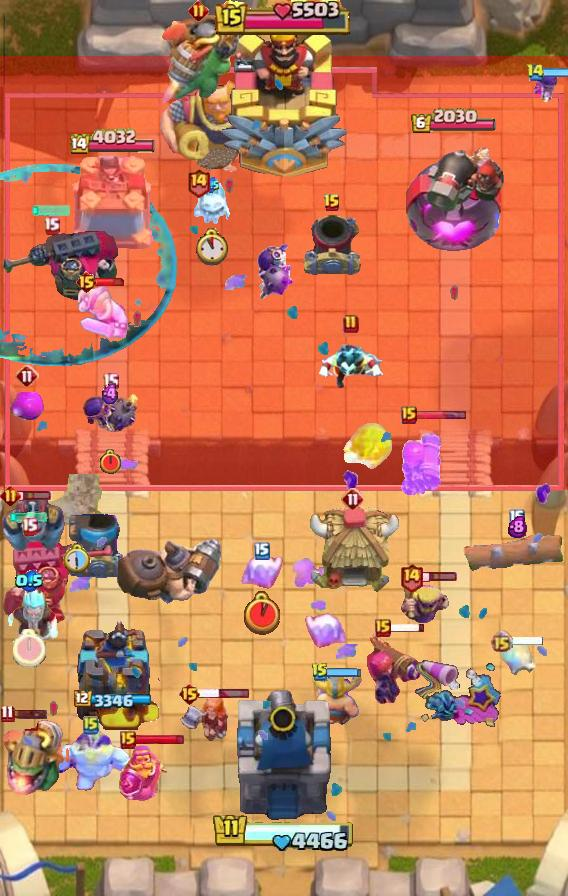bar: (134, 733, 185, 746), (198, 688, 250, 699), (415, 410, 467, 421), (11, 708, 48, 720), (421, 571, 458, 583), (15, 490, 52, 502), (389, 622, 426, 633), (327, 667, 362, 678), (511, 636, 544, 646), (95, 277, 127, 287), (542, 67, 568, 78)
bar-level: (399, 562, 424, 593), (186, 167, 211, 198), (341, 487, 365, 511), (15, 364, 39, 388), (178, 682, 201, 706), (75, 270, 98, 294), (490, 630, 513, 653), (0, 485, 21, 506), (188, 0, 209, 21), (526, 63, 545, 82), (311, 662, 329, 682), (323, 193, 341, 213), (21, 517, 38, 536), (102, 372, 119, 391), (43, 216, 60, 235), (83, 715, 99, 735), (343, 314, 359, 334), (120, 731, 136, 749), (375, 619, 391, 637), (254, 542, 270, 560), (509, 509, 525, 527), (401, 406, 417, 424), (0, 704, 15, 723)
barbarian-evolution: (398, 575, 450, 625)
bomber-evolution: (81, 392, 139, 436), (255, 244, 295, 302)
cannoneer-tower: (402, 136, 504, 256)
clock: (244, 591, 280, 635), (193, 228, 230, 266), (13, 629, 46, 667), (63, 543, 92, 574), (99, 449, 122, 475)
dirt: (46, 474, 108, 525)
electro-wizard: (314, 336, 388, 394)
elite-barbarian: (307, 674, 363, 728), (76, 283, 130, 339)
elixir: (15, 570, 44, 592), (100, 383, 121, 405), (508, 515, 527, 538), (203, 177, 219, 193)
elixir-golem-small: (9, 392, 45, 422)
firecracker-evolution: (366, 632, 424, 706), (397, 419, 445, 499)
ice-spirit: (190, 181, 232, 225), (494, 639, 538, 675)
ice-spirit-evolution: (303, 610, 349, 652), (239, 551, 285, 593)
ice-wizard: (0, 583, 62, 655)
king-tower: (219, 23, 349, 181), (232, 686, 336, 826)
king-tower-bar: (212, 812, 356, 854), (215, 0, 354, 37)
knight-evolution: (118, 744, 167, 802)
mega-minion: (0, 493, 68, 555)
mortar: (301, 211, 363, 279), (68, 514, 128, 578)
queen-tower: (66, 617, 162, 731), (68, 156, 160, 256)
skeleton-evolution: (531, 69, 560, 105)
the-log: (462, 530, 568, 576)
tower-bar: (70, 128, 158, 157), (410, 108, 497, 135), (74, 690, 154, 710)
valkyrie: (177, 696, 231, 746)
